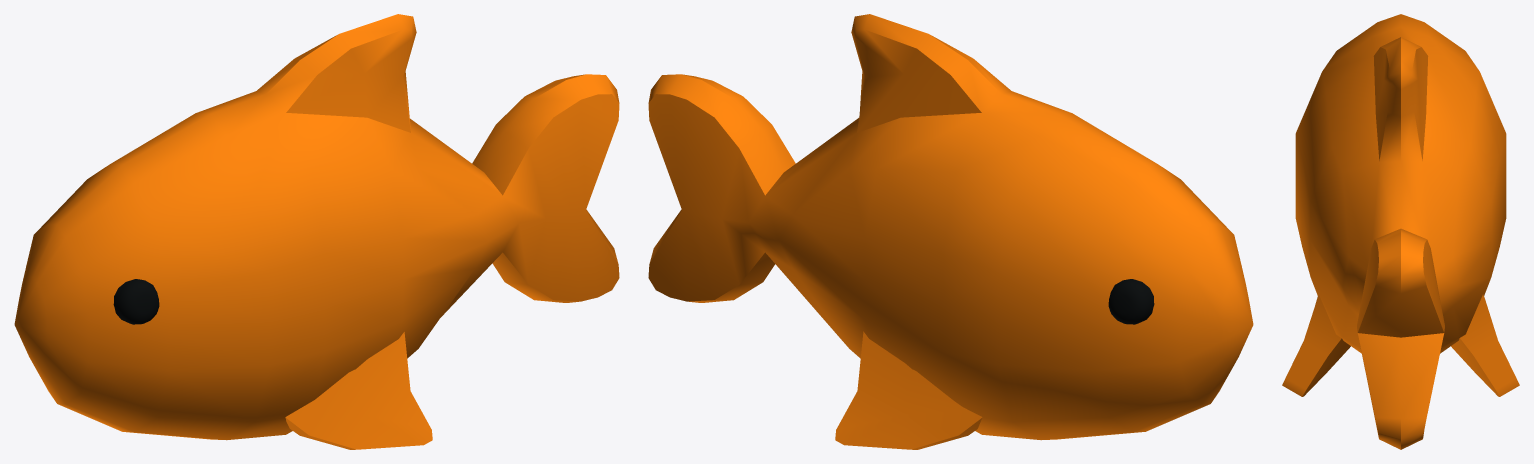
The model's file is fish_medium.obj.
3 renders of one model, left to right at view 1: azimuth 30°, elevation 25°; view 2: azimuth 150°, elevation 25°; view 3: azimuth 270°, elevation 25°, orthographic. The views are drawn at different scales.
Visible parts, largest first — view 1: fish_medium_Cube.103; view 2: fish_medium_Cube.103; view 3: fish_medium_Cube.103.
Boxes of the visible parts, x1,y1,x2,y2 form: fish_medium_Cube.103: (14, 14, 619, 449); fish_medium_Cube.103: (648, 14, 1253, 449); fish_medium_Cube.103: (1282, 14, 1519, 449).
Bounding box in the file's own units: 0.7217 × 0.4468 × 0.2705.
